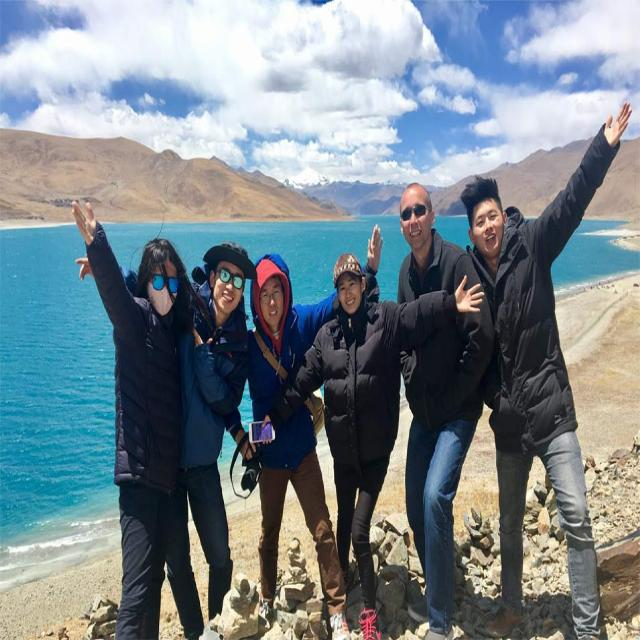body: (450, 95, 637, 639), (255, 250, 488, 640), (67, 194, 204, 639), (244, 220, 385, 639), (394, 178, 493, 639), (167, 239, 257, 639), (299, 559, 634, 639)
